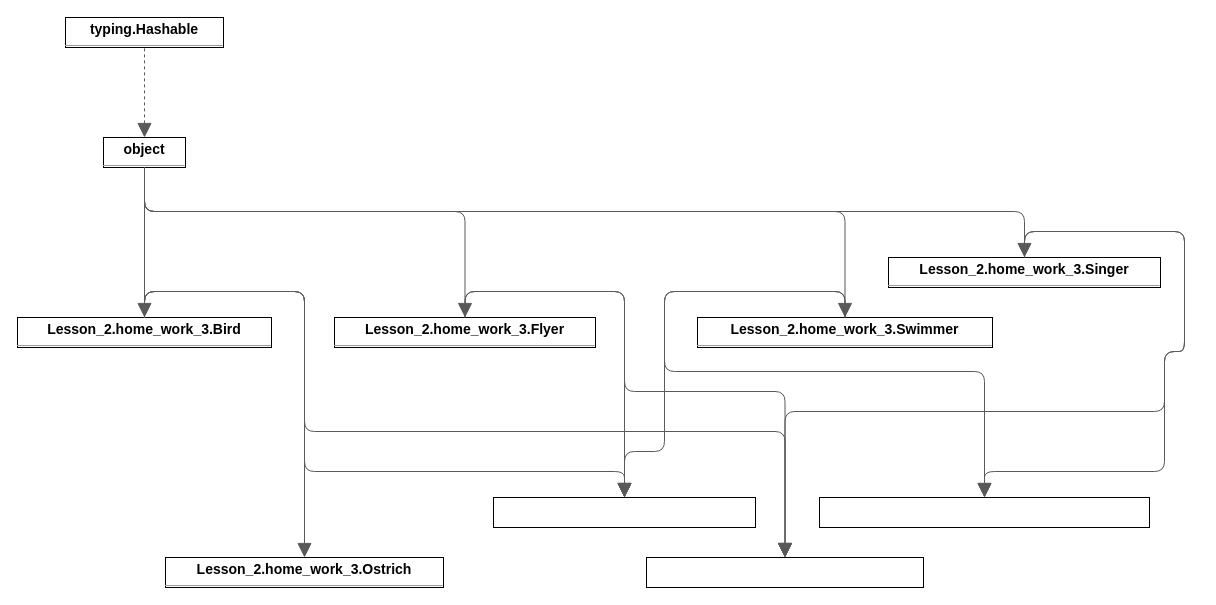
The diagram is 1216 pixels wide and 605 high, and some of its shapes have lost their labels. Here are the shapes that lost their labels. From the top down, the box of each, then its label:
(492, 496, 756, 528): Lesson_2.home_work_3.Duck
(818, 496, 1150, 528): Lesson_2.home_work_3.CodySimpson
(646, 556, 924, 588): Lesson_2.home_work_3.Canary
